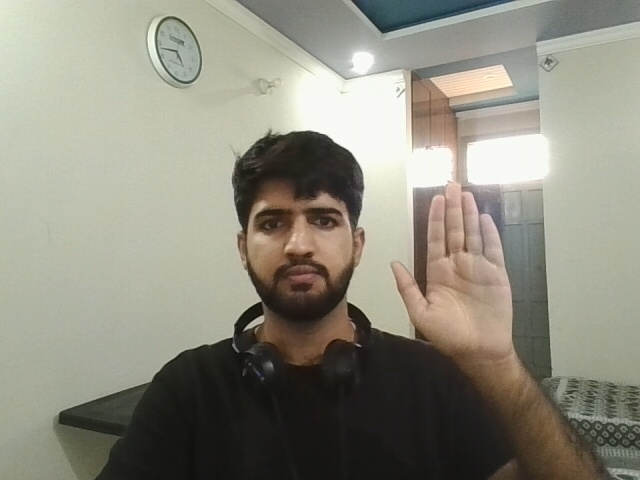Hello: (380, 171, 549, 371)
